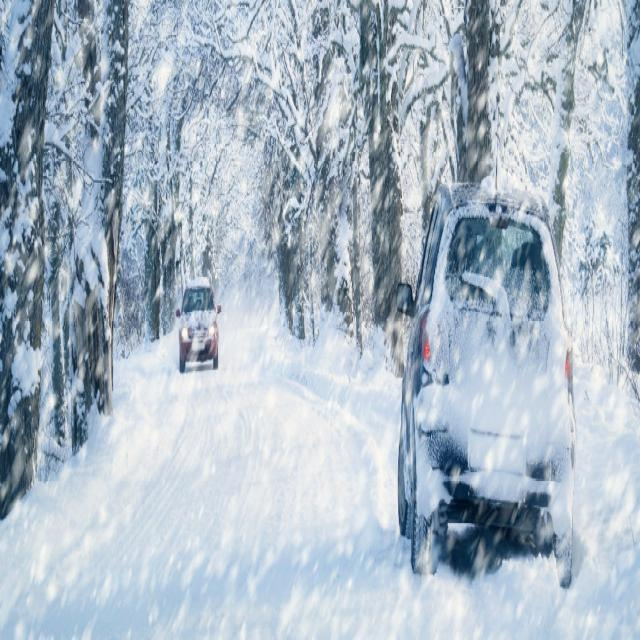car: (395, 182, 575, 582), (177, 281, 220, 370)
